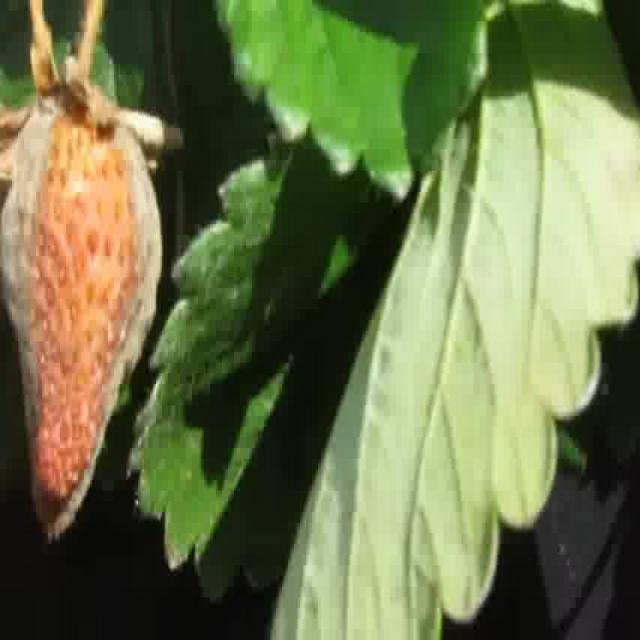Moho gris: (1, 80, 165, 538)
